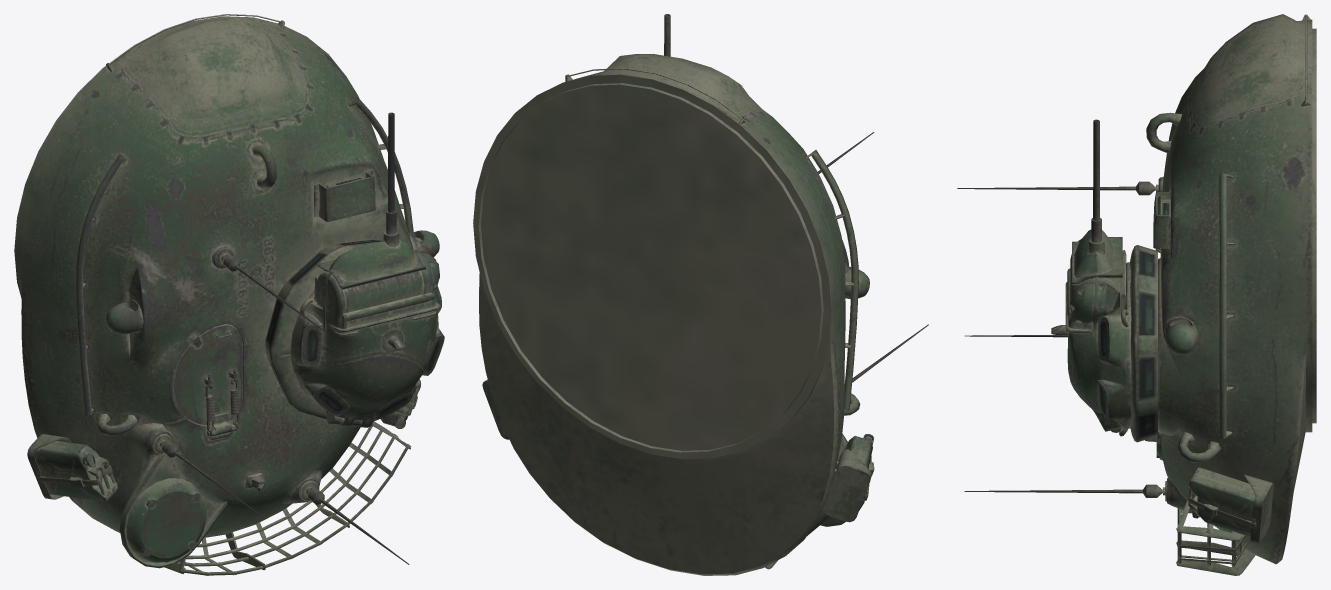
File: Turret_01.glb
The picture shows the model from 3 angles, left to right: view 1: azimuth 30°, elevation 25°; view 2: azimuth 150°, elevation 25°; view 3: azimuth 270°, elevation 25°; orthographic projection.
Parts seen in each view (by area): view 1: set_0_group_0; view 2: set_0_group_0; view 3: set_0_group_0.
Boxes of the visible parts, x1,y1,x2,y2 form: set_0_group_0: (14,14,444,575); set_0_group_0: (473,14,928,575); set_0_group_0: (957,14,1316,575).
Bounding box in the file's own units: 2.68 × 3.47 × 2.16.
Materials: 1 (1 with a texture image).
